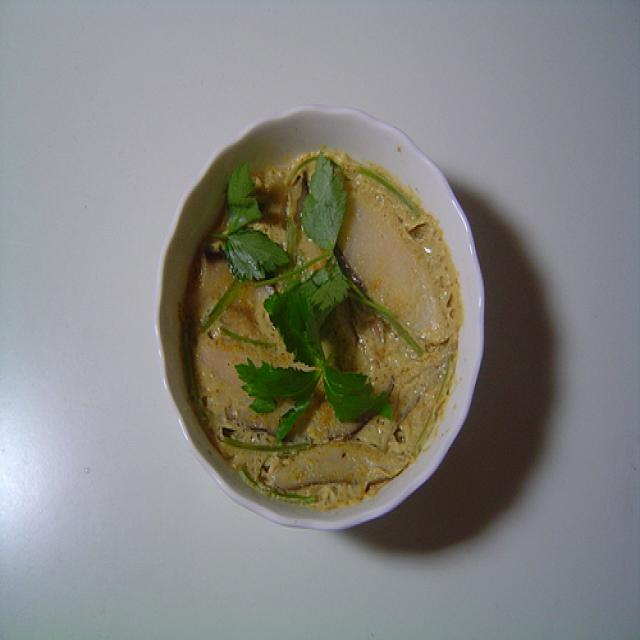鸡蛋料理: (158, 102, 500, 538)
